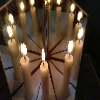fire: (41, 47, 46, 63)
